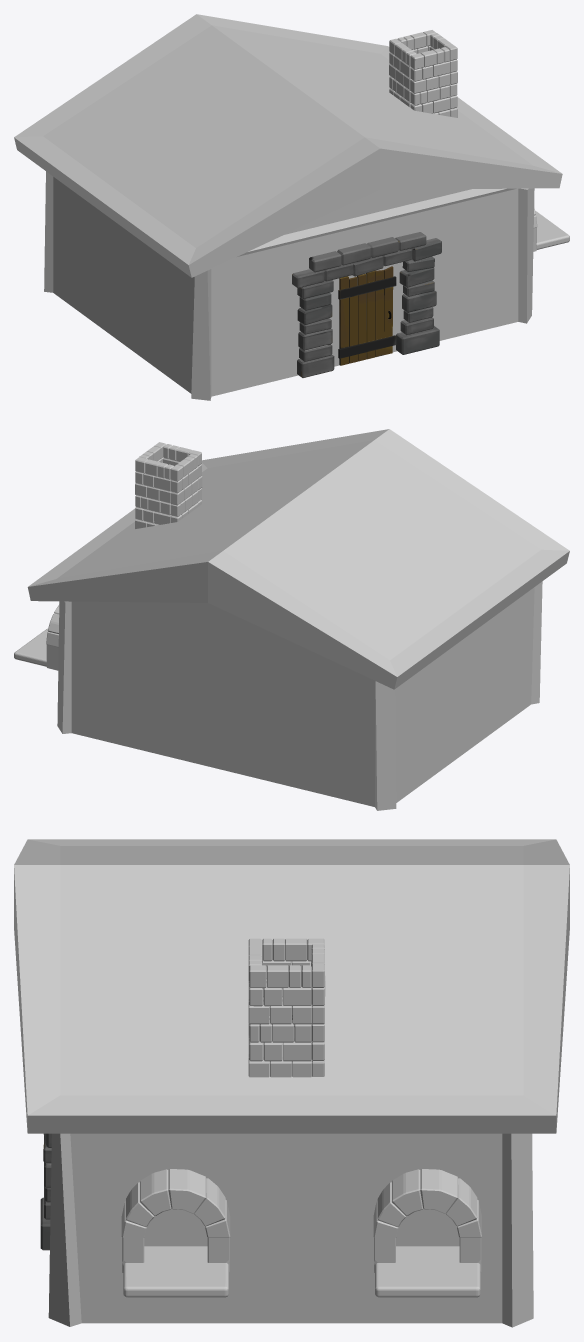
The model's file is baker.fbx.
3 views of the same model, one above another, from view 1: azimuth 30°, elevation 25°; view 2: azimuth 150°, elevation 25°; view 3: azimuth 270°, elevation 25° (orthographic). The views are drawn at different scales.
Visible parts, largest first — view 1: Baker, Door_02, Chimney, Input Window.002; view 2: Baker, Chimney, Input Window.003; view 3: Baker, Input Window.002, Input Window.003, Chimney, Door_02.
Part boxes in pixels (bbox=[...]): Baker: bbox=[14, 14, 562, 400]; Door_02: bbox=[292, 232, 441, 377]; Chimney: bbox=[389, 30, 457, 117]; Input Window.002: bbox=[533, 207, 569, 251]; Baker: bbox=[27, 429, 569, 810]; Chimney: bbox=[135, 442, 202, 528]; Input Window.003: bbox=[14, 605, 59, 670]; Baker: bbox=[14, 839, 569, 1327]; Input Window.002: bbox=[121, 1169, 230, 1297]; Input Window.003: bbox=[373, 1169, 481, 1297]; Chimney: bbox=[248, 938, 325, 1077]; Door_02: bbox=[40, 1133, 51, 1250].
Size of the model in its own units: 3123 by 1646 by 2400.
